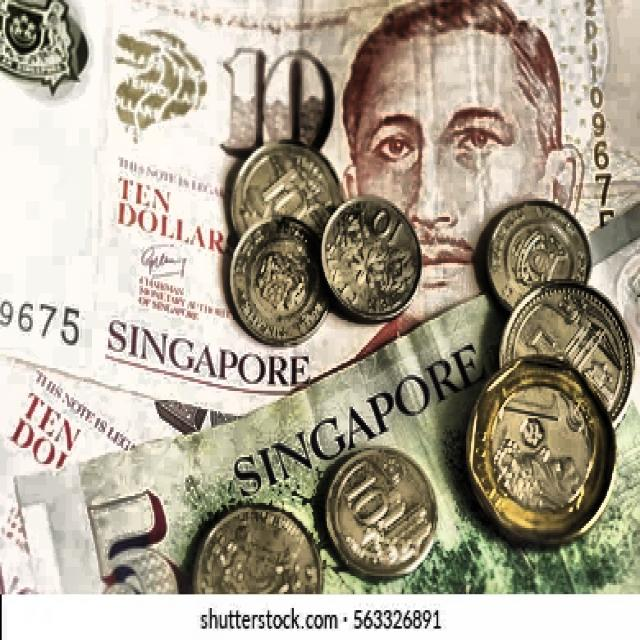coin: (466, 359, 614, 544)
